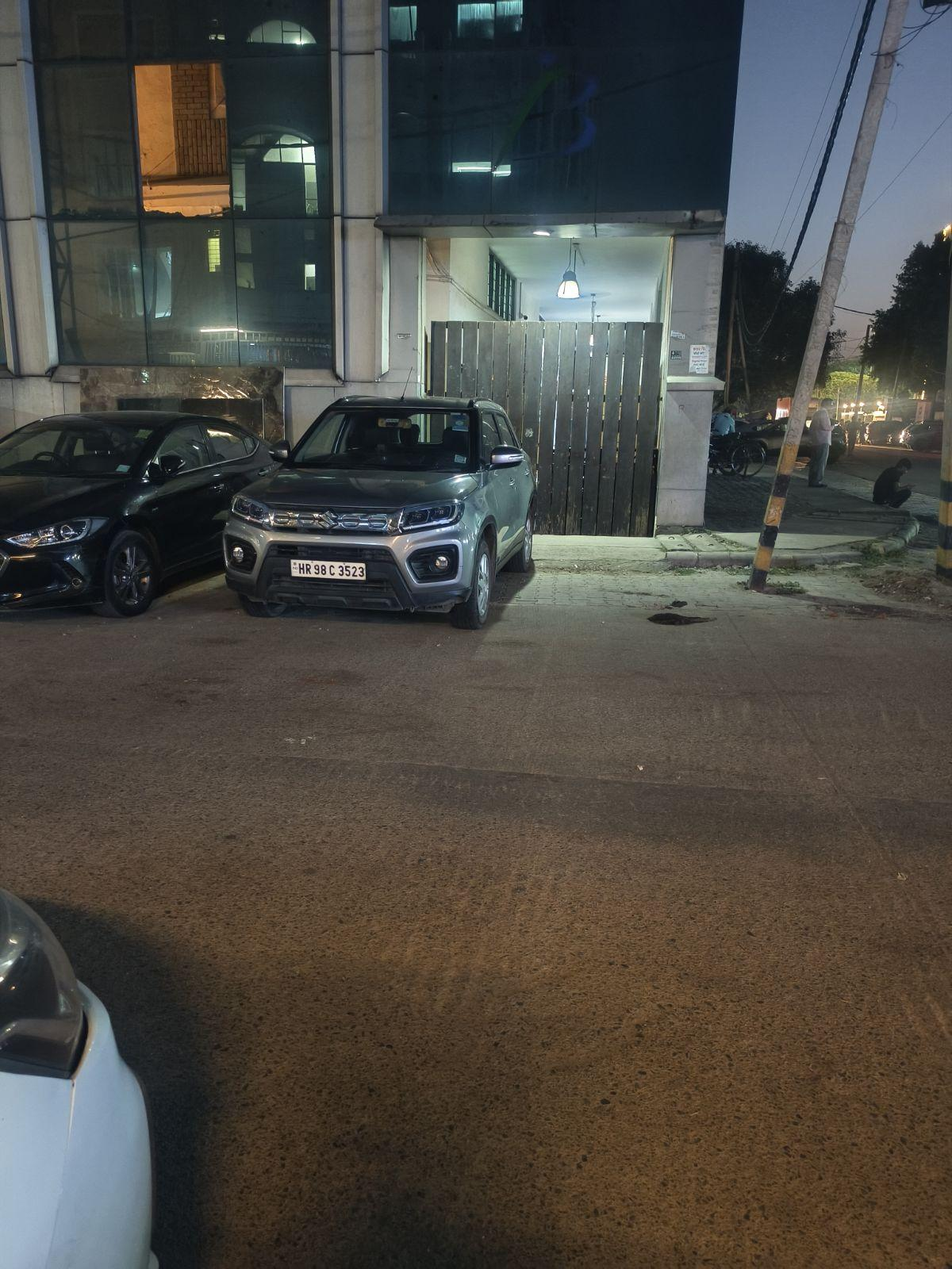License plate: (291, 559, 366, 580)
